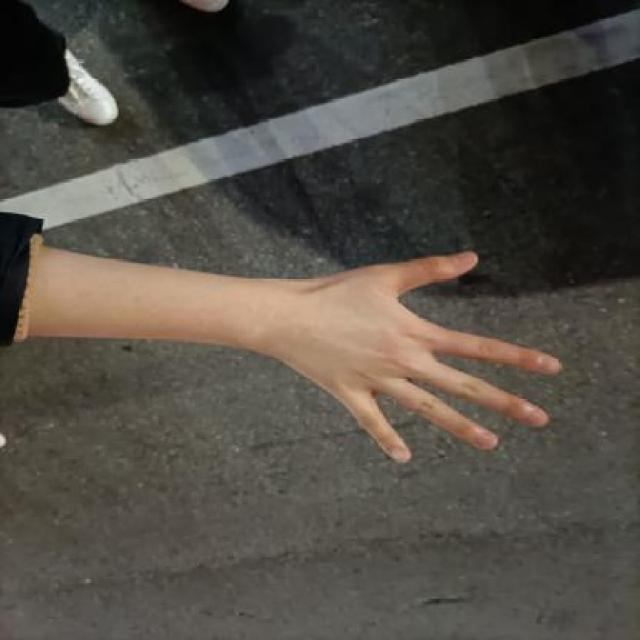bare_hand: (243, 244, 586, 476)
